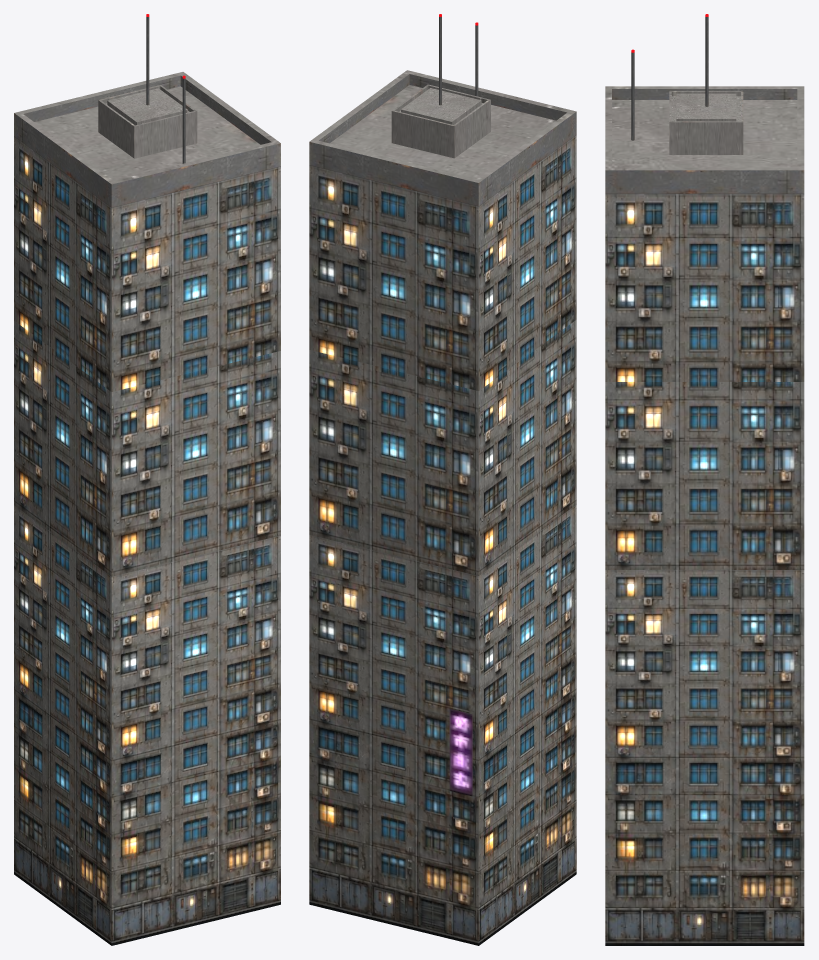
The model's file is cyberpunk-residential-building-4.glb.
3 renders of one model, left to right at view 1: azimuth 30°, elevation 25°; view 2: azimuth 150°, elevation 25°; view 3: azimuth 270°, elevation 25°, orthographic.
Visible parts, largest first — view 1: cyberpunk-residential-building-4; view 2: cyberpunk-residential-building-4; view 3: cyberpunk-residential-building-4.
Boxes of the visible parts, bbox=[...] form: cyberpunk-residential-building-4: bbox=[14, 14, 280, 945]; cyberpunk-residential-building-4: bbox=[309, 14, 576, 945]; cyberpunk-residential-building-4: bbox=[605, 14, 804, 945].
Size of the model in its own units: 18.03 by 88.98 by 18.08.
2 materials, 1 textured.
